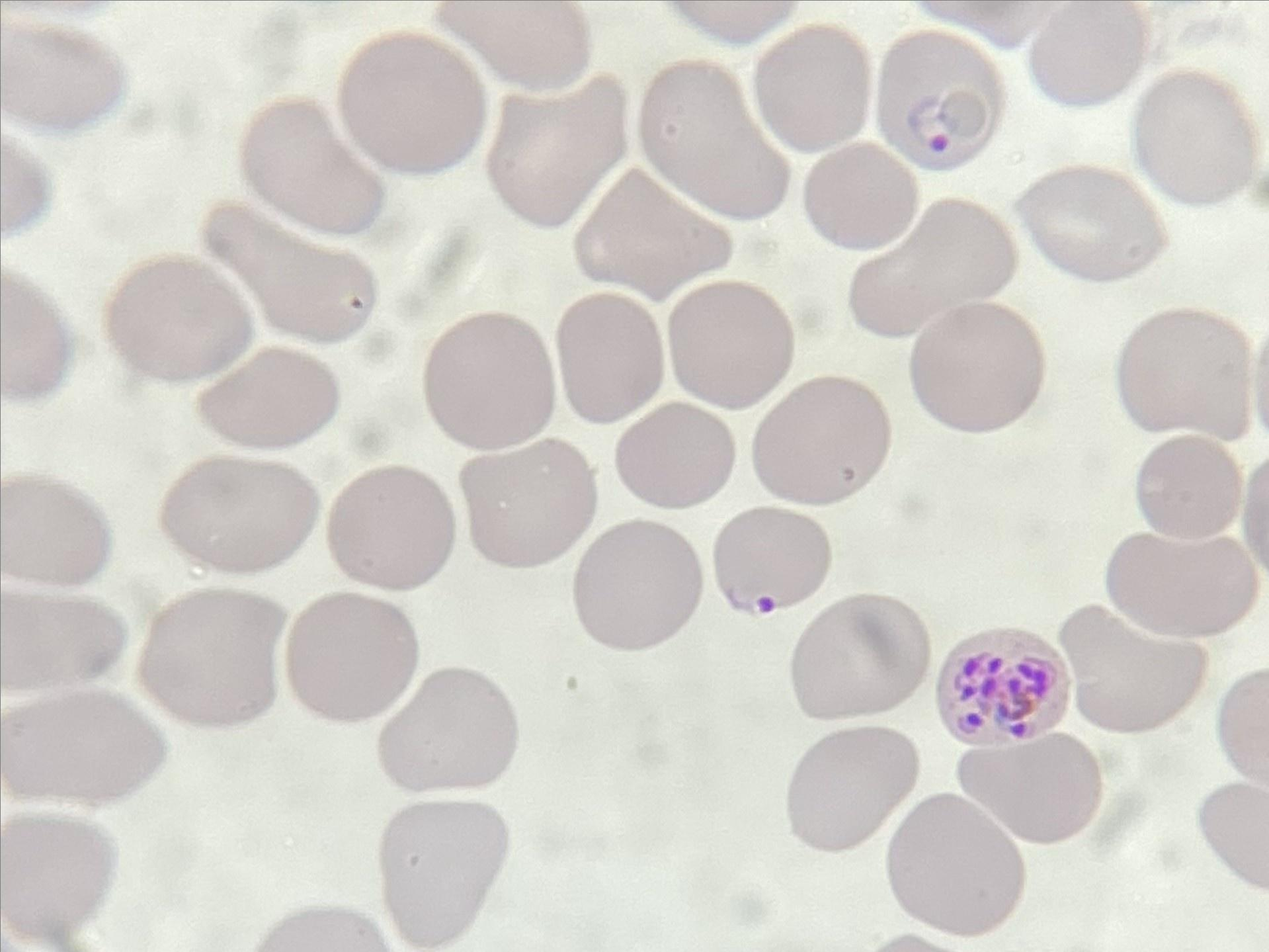Infected: (873, 27, 1008, 171), (936, 626, 1066, 746), (714, 506, 831, 619)
Uninfected: (205, 195, 382, 344), (640, 62, 790, 221), (850, 200, 1013, 334), (483, 73, 627, 224), (139, 589, 292, 728), (344, 30, 485, 176), (574, 172, 734, 299), (890, 794, 1032, 935), (377, 798, 507, 946), (243, 100, 381, 238), (159, 457, 321, 573), (456, 435, 596, 568), (1060, 604, 1208, 729), (0, 693, 171, 801), (1118, 311, 1254, 445), (423, 311, 557, 446), (756, 376, 890, 510), (909, 305, 1046, 435), (106, 257, 250, 380), (1132, 66, 1254, 208), (379, 669, 516, 793), (1020, 166, 1165, 281), (794, 591, 928, 715), (574, 518, 697, 652), (785, 725, 923, 844), (1109, 530, 1260, 638), (289, 592, 415, 721), (668, 280, 794, 404), (957, 735, 1103, 842), (327, 463, 455, 585), (0, 816, 116, 947), (756, 24, 872, 154), (0, 21, 132, 134), (436, 0, 591, 94), (197, 351, 340, 450), (557, 291, 661, 425), (798, 143, 922, 253), (0, 589, 128, 692), (0, 470, 112, 584), (615, 404, 735, 510), (1032, 0, 1145, 109), (1136, 437, 1246, 536)
